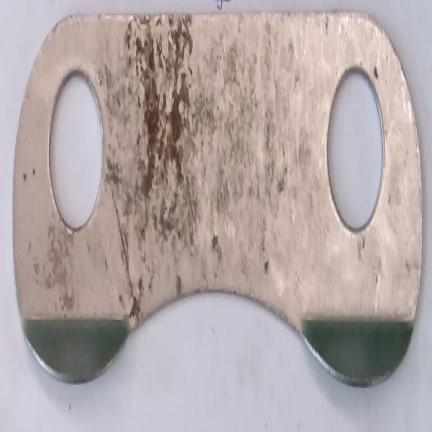besi_tidak_karat: (13, 13, 421, 385)
